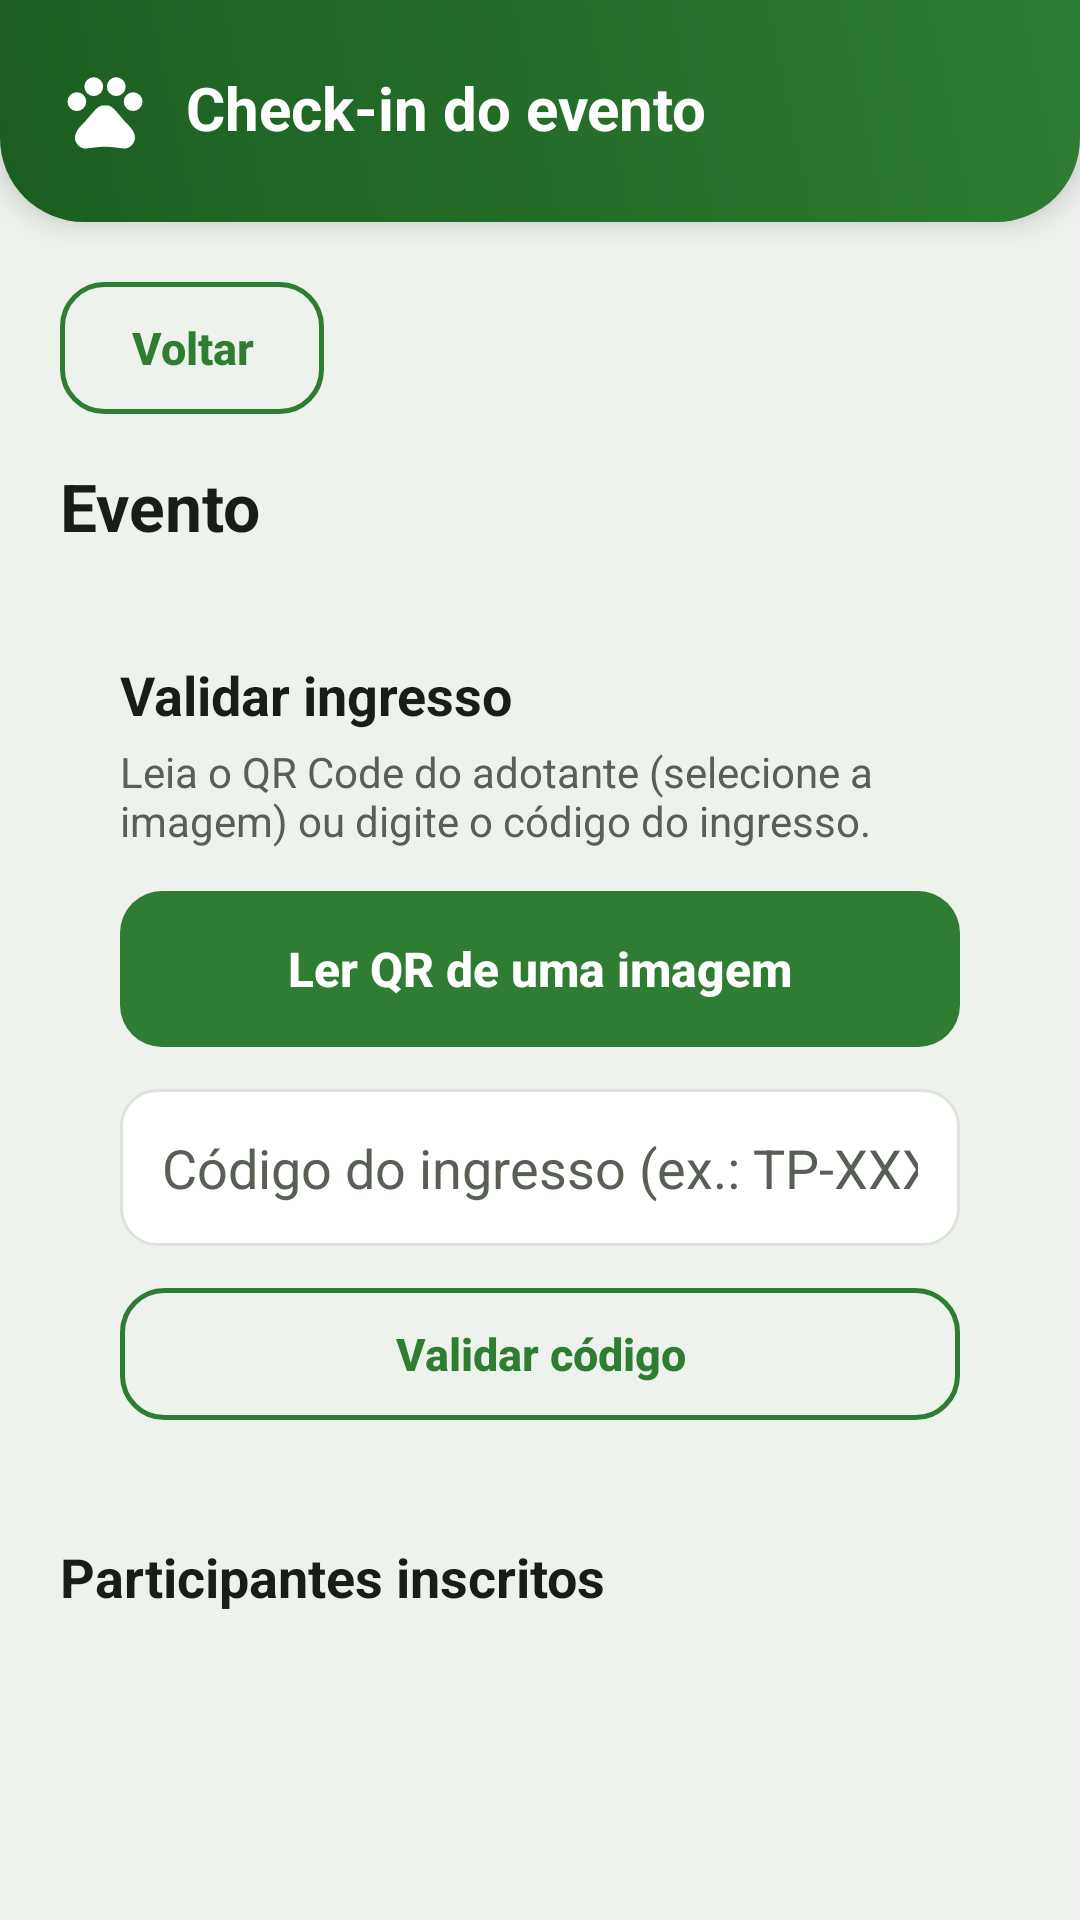

Where to tap for icons on this 1080×1920 app screen, as (x,y):
pata: (105,113)
